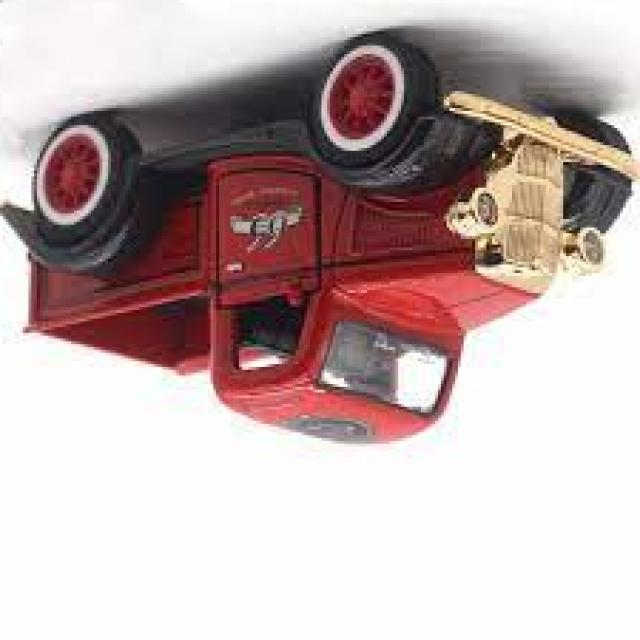Car: (3, 34, 640, 450)
